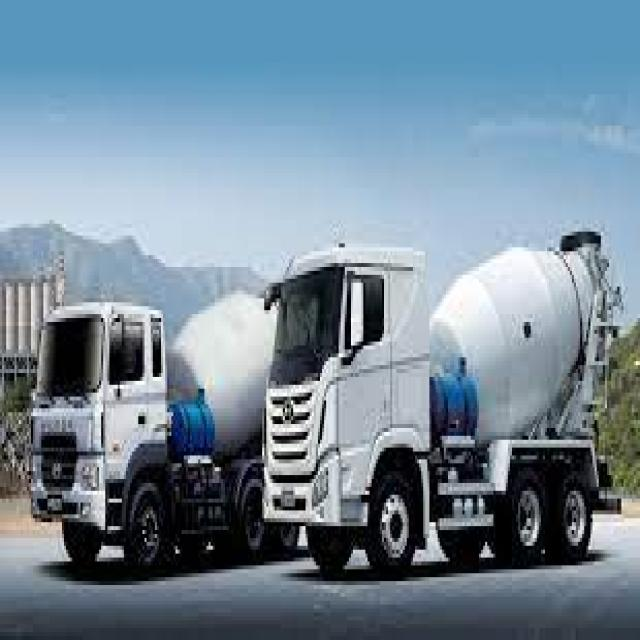Mixer Truck: (262, 224, 626, 575), (26, 285, 306, 584)
